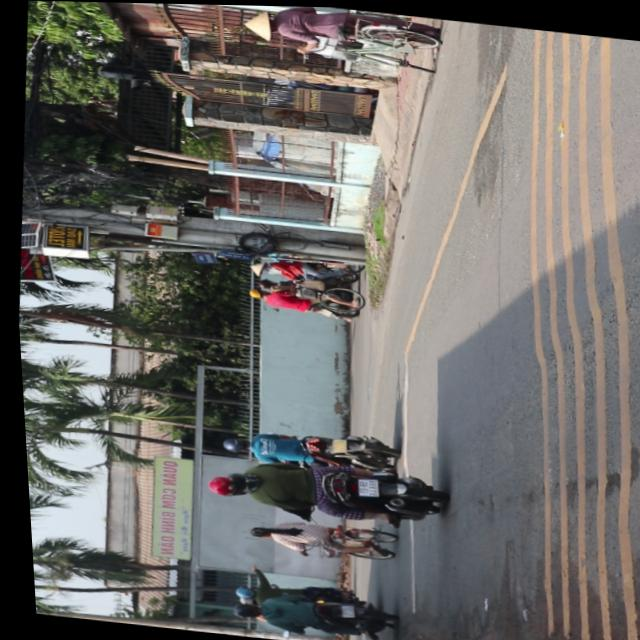helmet: (198, 469, 241, 497)
licenseplate: (196, 448, 441, 529)
nohelmet: (350, 476, 372, 495)
